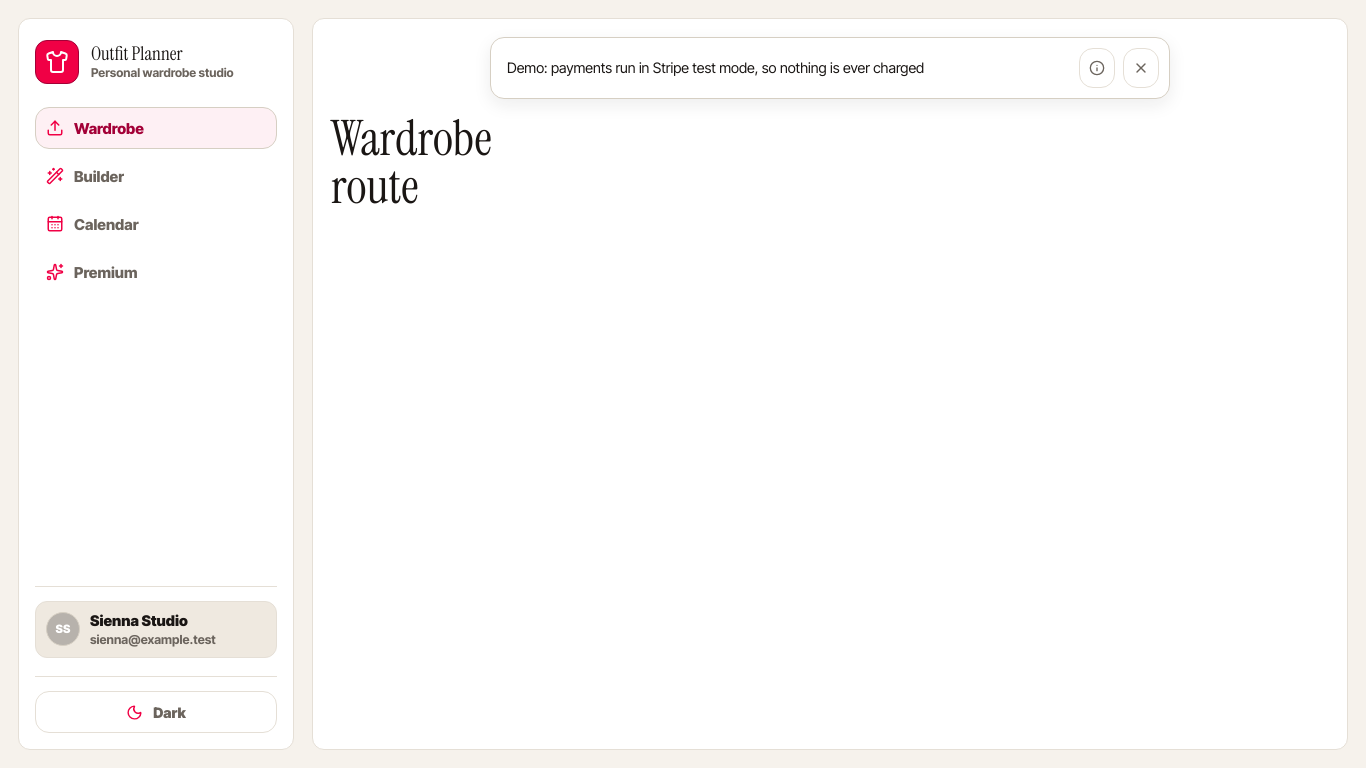
Scenario: AppShell editorial frame › confirms sign out inside account settings before logging out
The width and height of the screenshot is (1366, 768).
What coordinates should you click on to do the following:
click the button "SS Sienna Studio sienna@example.test"
I would click on:
 (156, 629)
Its box is [35, 601, 277, 658].
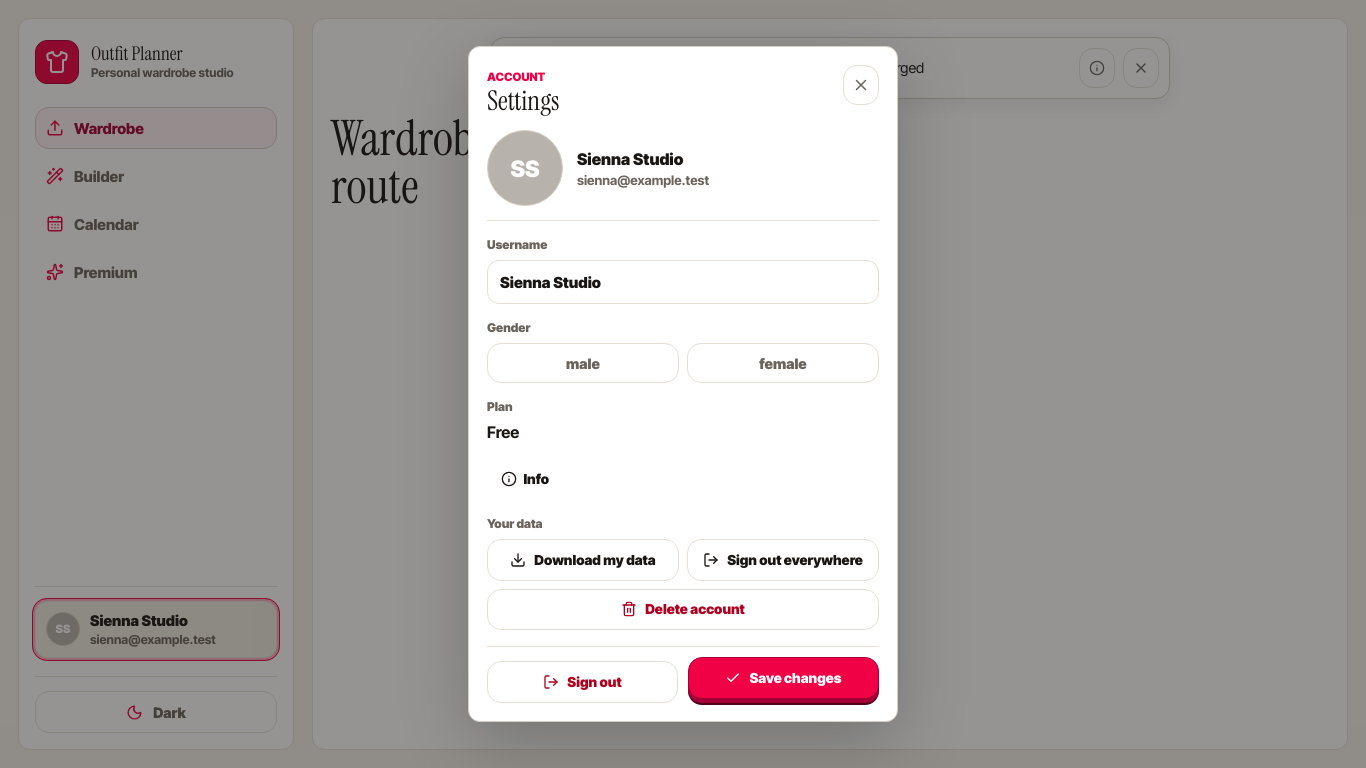
What coordinates should you click on to do the following:
click the button "Sign out"
I would click on:
 (582, 682)
Its box is [487, 661, 678, 703].
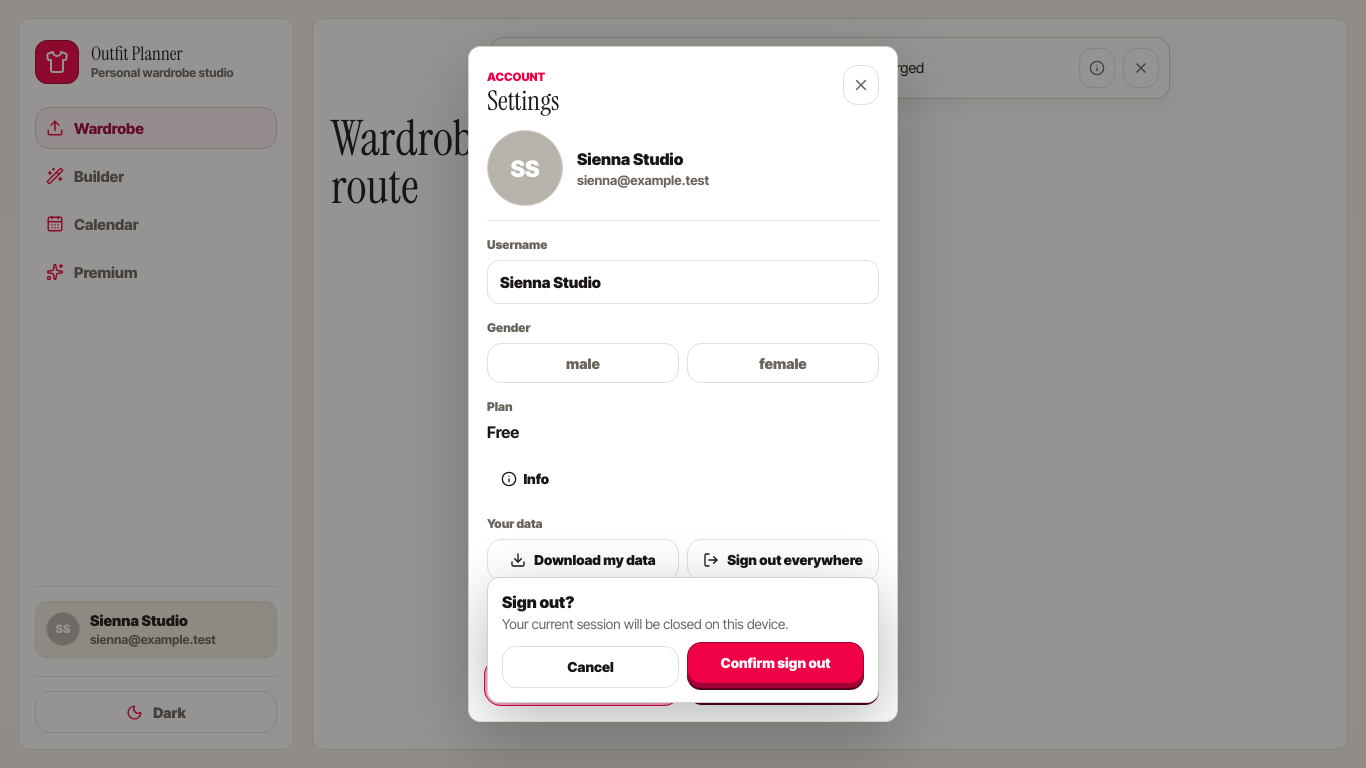
Expected: the dialog named "confirm sign out" is shown, [487, 577, 879, 703]
What coordinates should you click on to do the following:
click the button "Confirm sign out"
I would click on:
 (776, 663)
Its box is [687, 642, 864, 684].
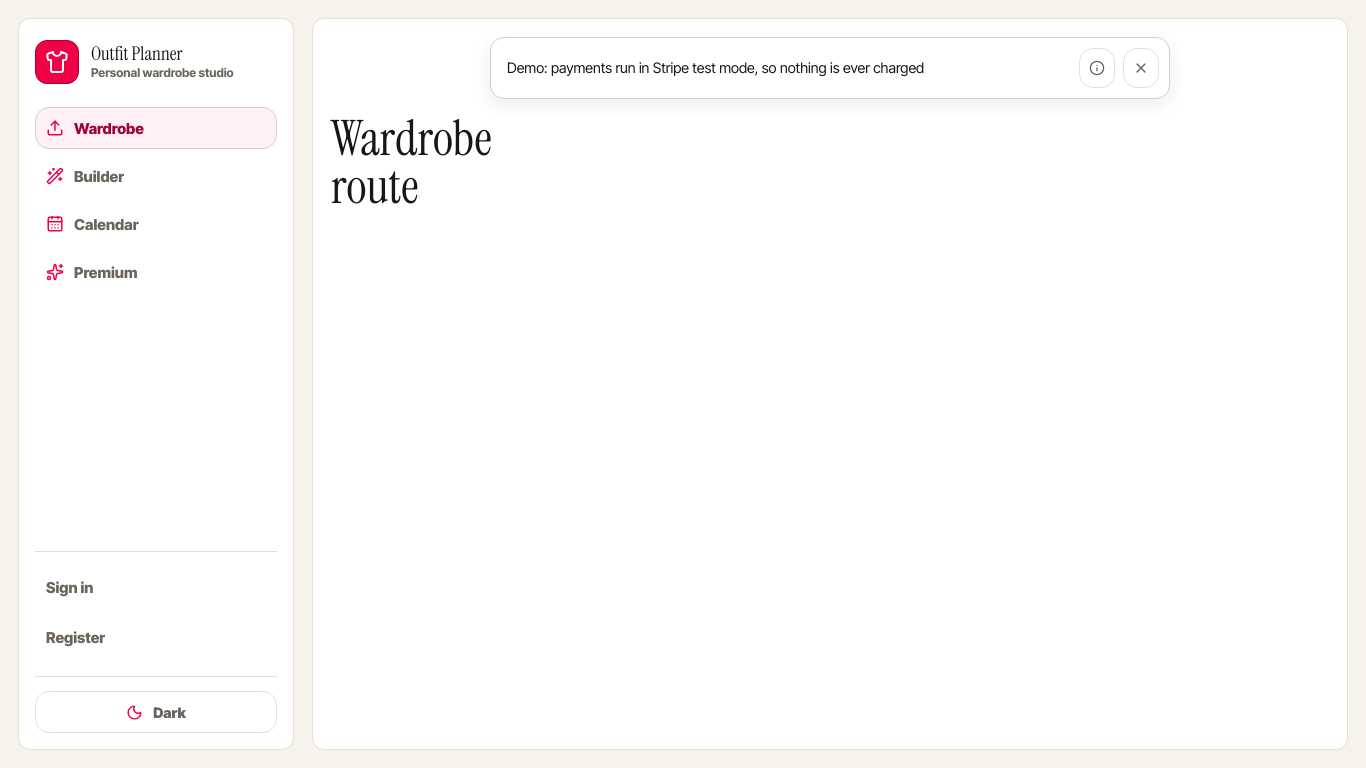
Expected: the link "Sign in" is shown, [46, 578, 94, 596]
Expected: the dialog "Account Settings" is gone
